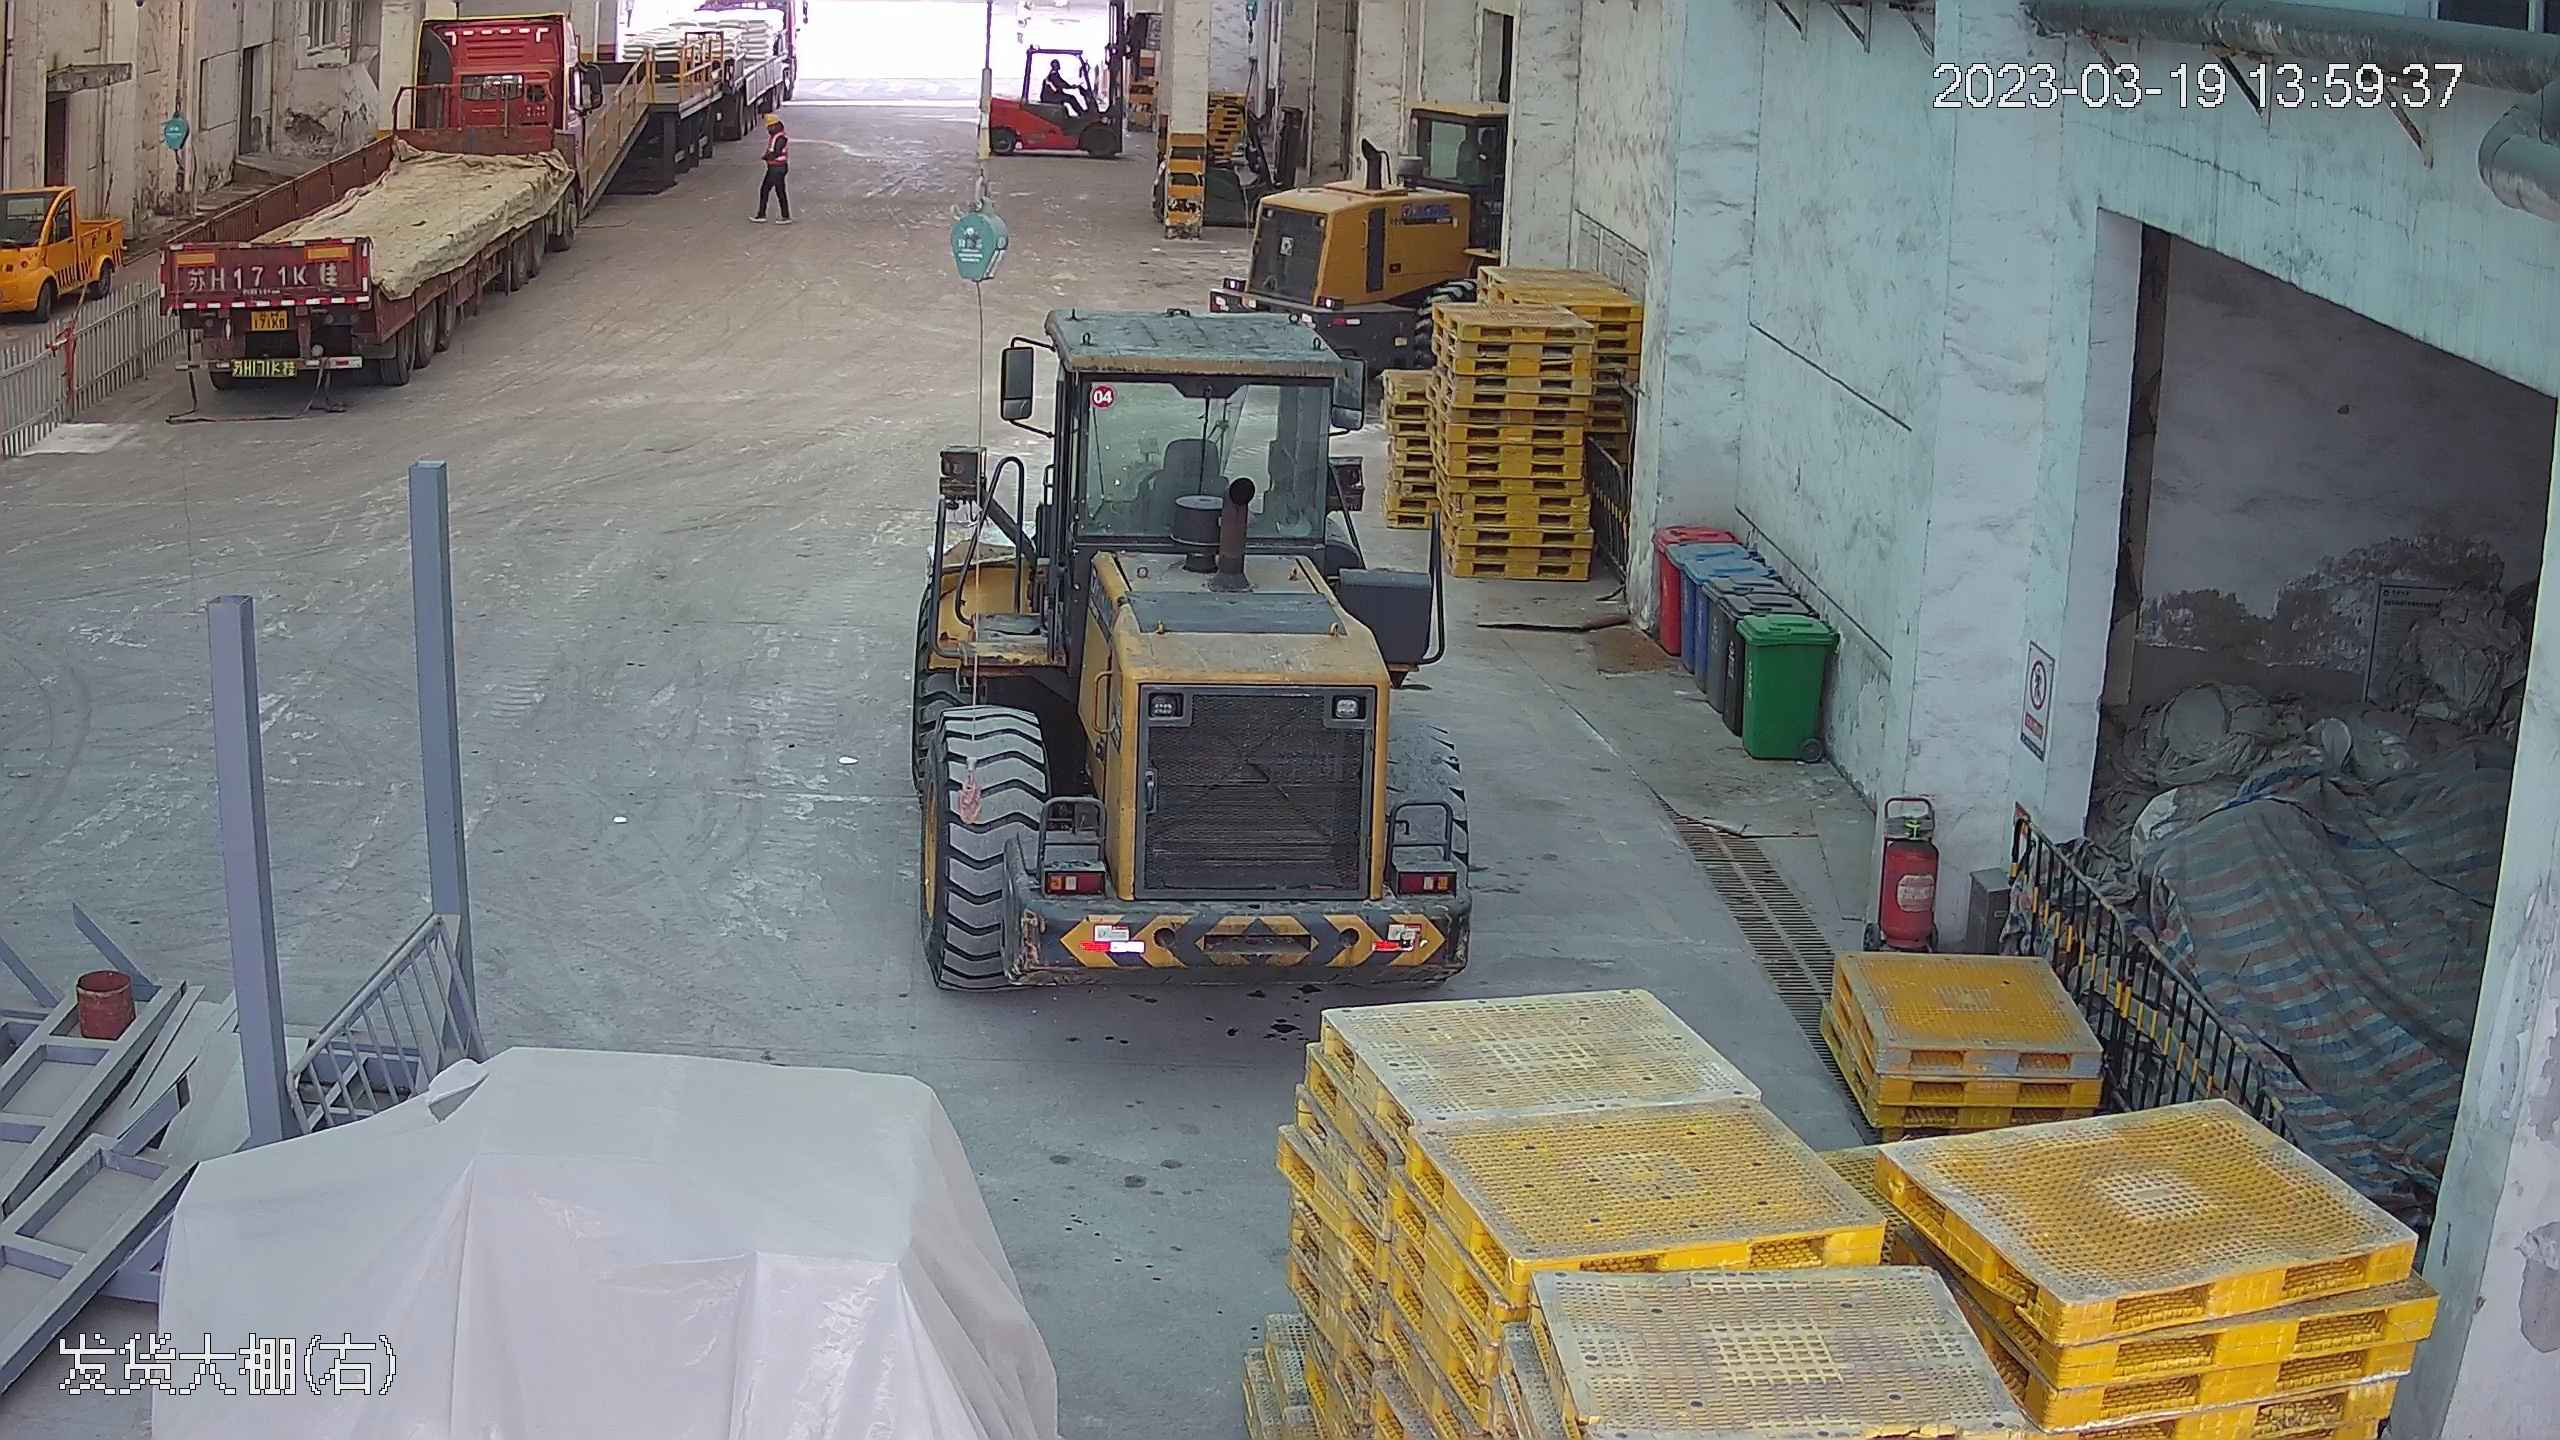head: (761, 111, 791, 147)
helmet: (763, 107, 782, 128)
people: (750, 105, 799, 226)
truck: (153, 9, 610, 391)
